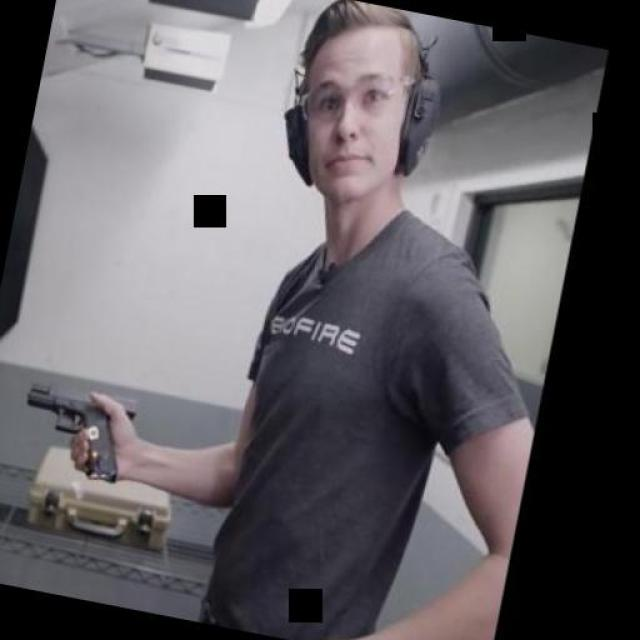gun: (8, 374, 144, 485)
